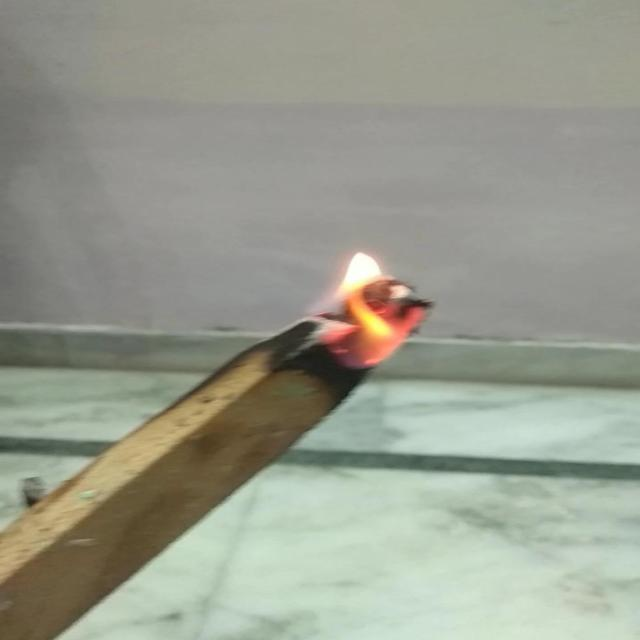smoke: (298, 236, 442, 378)
